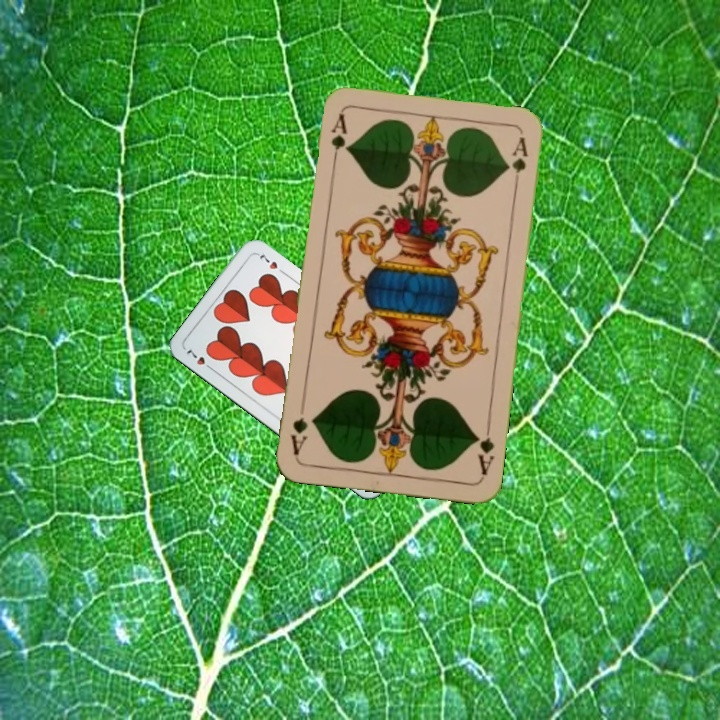GA: (471, 420, 497, 478), (326, 110, 349, 169)
H7: (182, 345, 217, 374)
